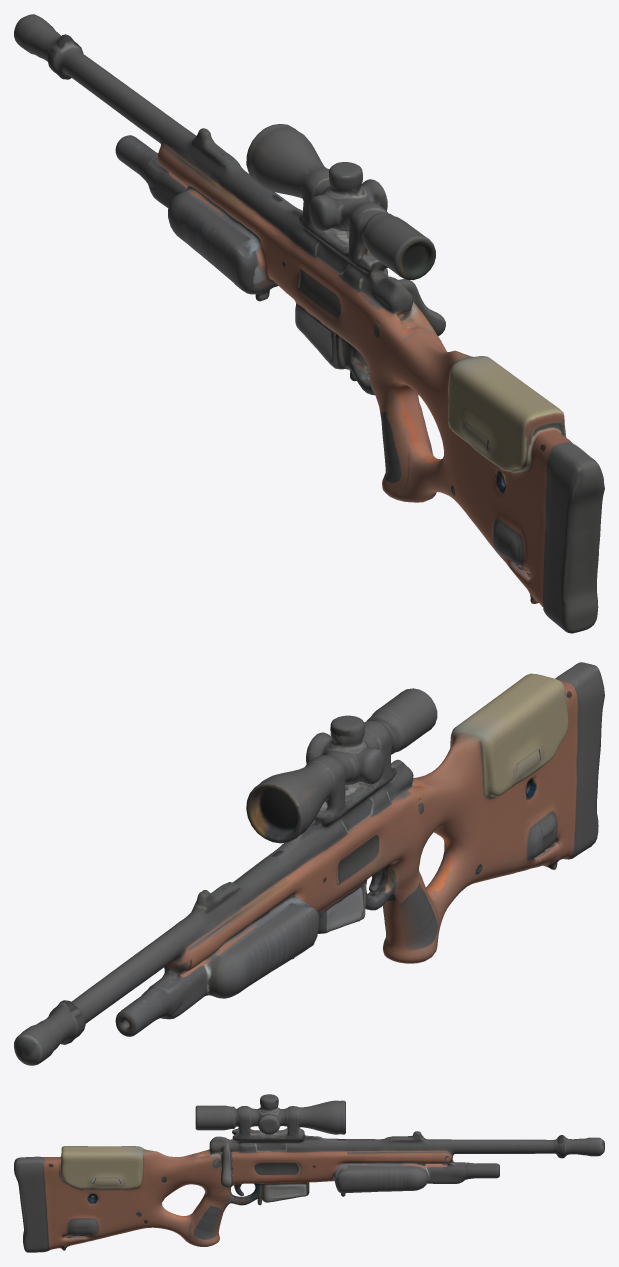
File: tripo_convert_8e38cd44-5ba3-429b-973c-f79cb07eaa13(1).fbx
3 renders of one model, top to bottom at view 1: azimuth 30°, elevation 25°; view 2: azimuth 150°, elevation 25°; view 3: azimuth 270°, elevation 25°, orthographic. The views are drawn at different scales.
Visible parts, largest first — view 1: tripo_node_8e38cd44; view 2: tripo_node_8e38cd44; view 3: tripo_node_8e38cd44.
Boxes of the visible parts, x1,y1,x2,y2 form: tripo_node_8e38cd44: [14, 14, 604, 633]; tripo_node_8e38cd44: [14, 662, 604, 1065]; tripo_node_8e38cd44: [14, 1094, 604, 1252].
Size of the model in its own units: 9.96 by 28.58 by 99.95.
1 material, 1 textured.
